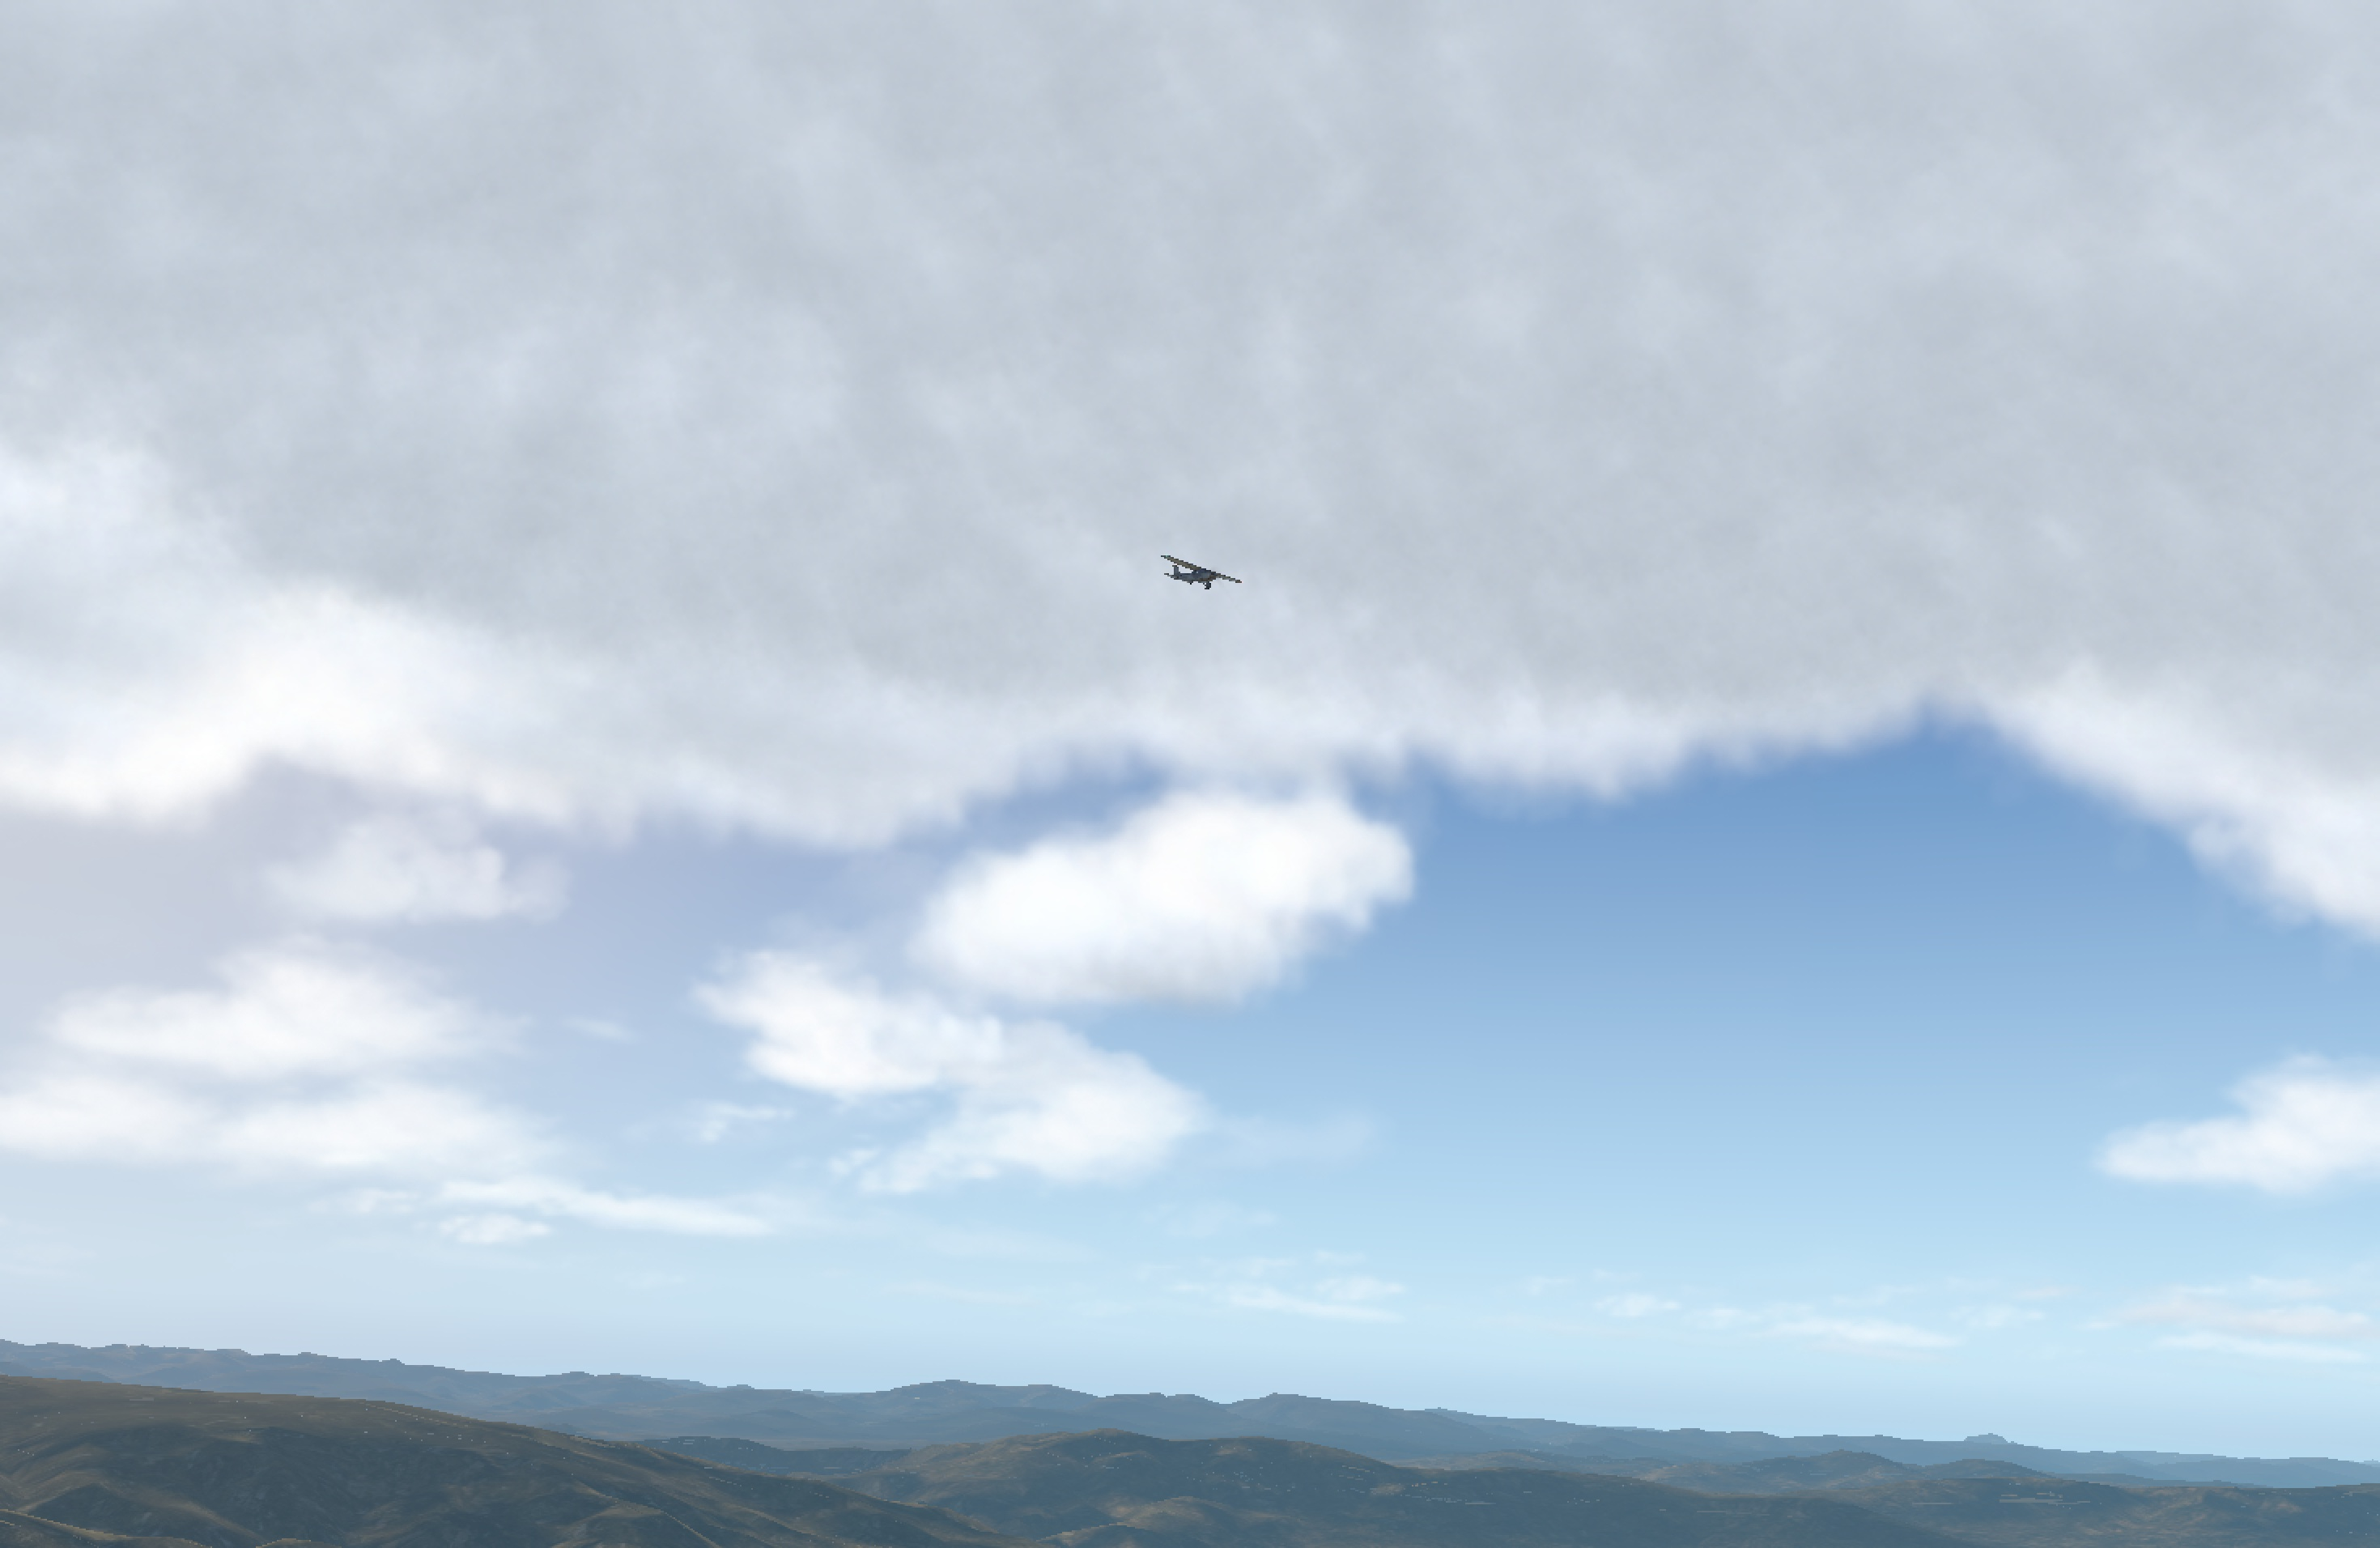aircraft: (1167, 562, 1239, 588)
